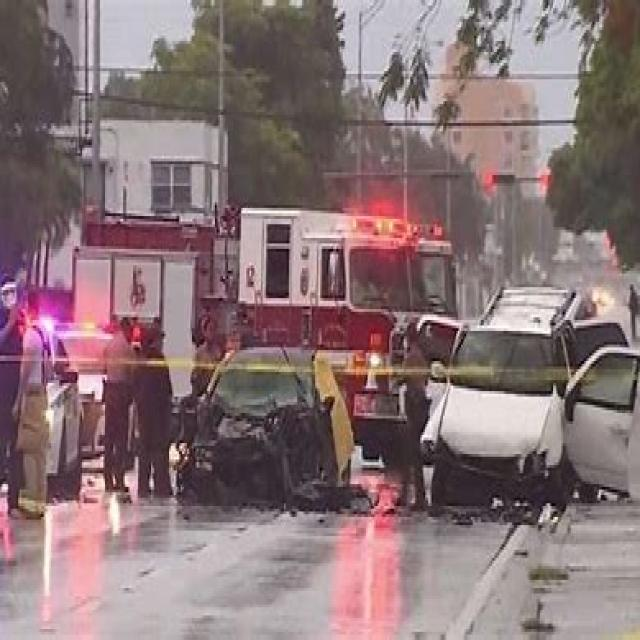Accident: (46, 177, 640, 604)
